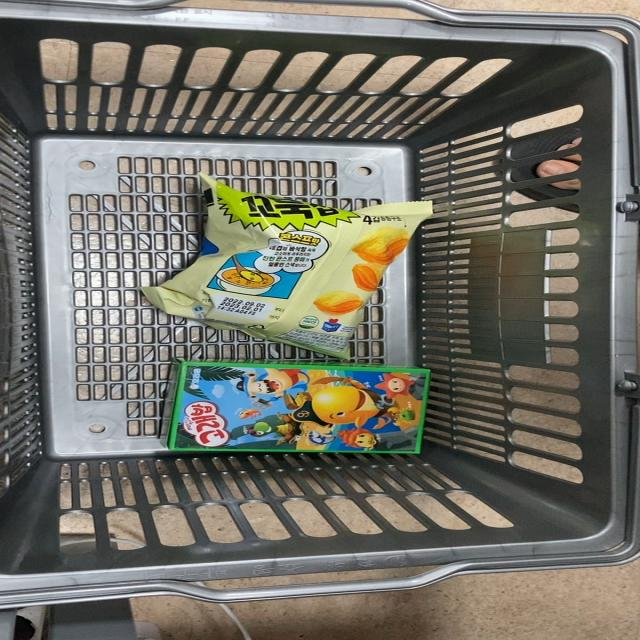ggobukchip: (140, 174, 426, 348)
goraebob: (149, 353, 446, 457)
